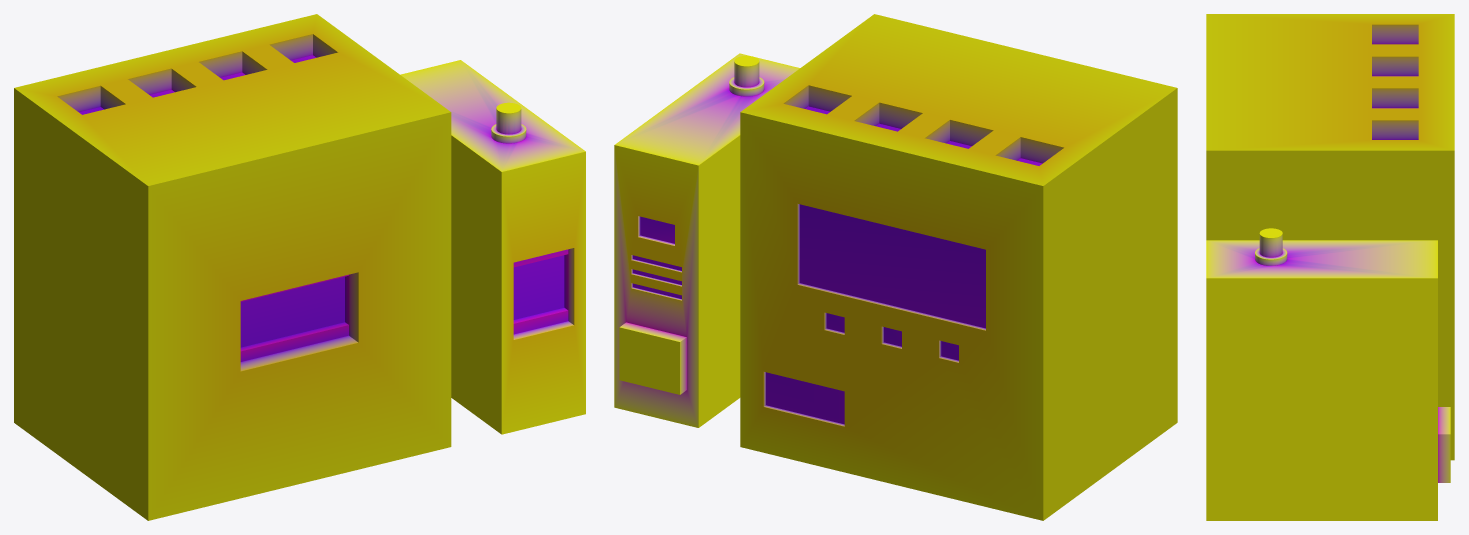
The model's file is field-telemetry-kit-preview.glb.
The picture shows the model from 3 angles, left to right: view 1: azimuth 30°, elevation 25°; view 2: azimuth 150°, elevation 25°; view 3: azimuth 270°, elevation 25°; orthographic projection. The views are drawn at different scales.
Visible parts, largest first — view 1: energy_meter, rs485_lte_gateway; view 2: energy_meter, rs485_lte_gateway; view 3: rs485_lte_gateway, energy_meter.
Part boxes in pixels (box(x1,y1,x2,y2)): energy_meter: box(14, 14, 451, 520); rs485_lte_gateway: box(400, 60, 585, 434); energy_meter: box(740, 14, 1177, 520); rs485_lte_gateway: box(614, 53, 799, 427); rs485_lte_gateway: box(1206, 228, 1450, 520); energy_meter: box(1206, 14, 1454, 460).
Size of the model in its own units: 0.13 by 0.095 by 0.069.
